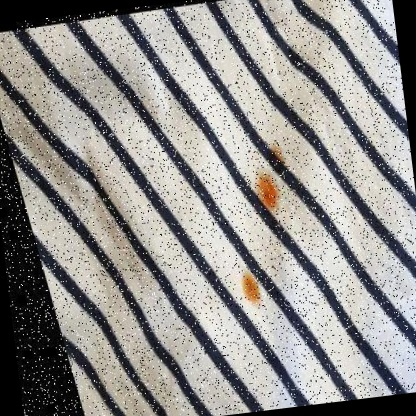kimchi: (252, 168, 286, 211), (238, 272, 261, 310), (270, 141, 289, 158)
